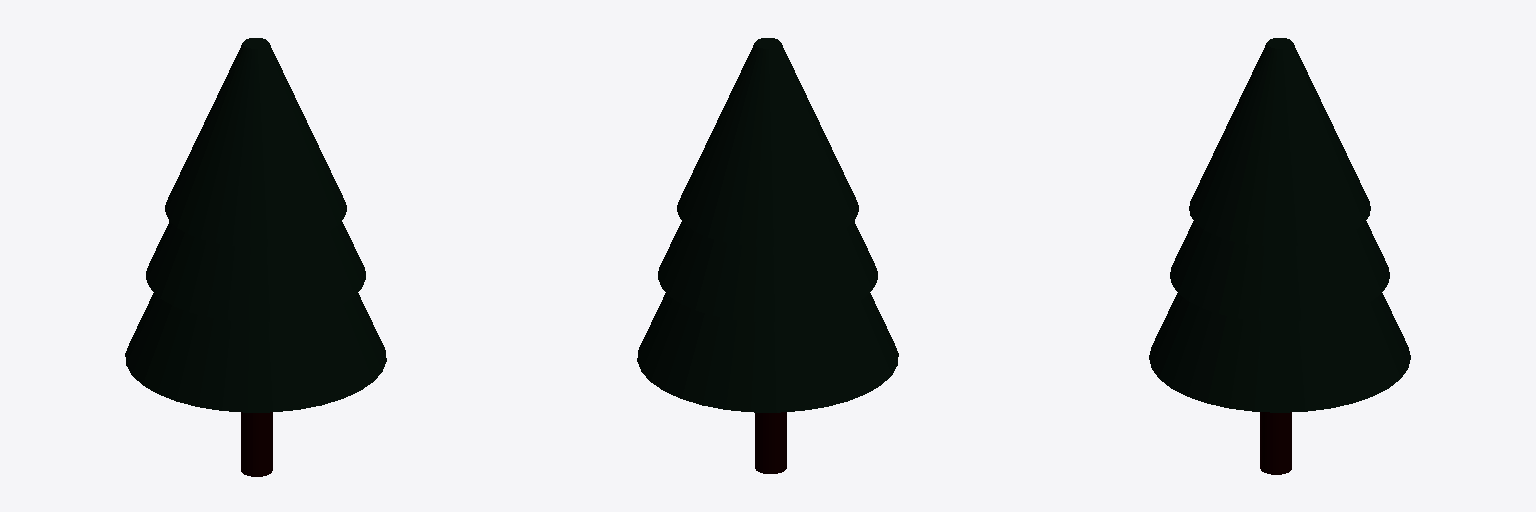
File: TreeBig.obj
3 views of the same model, side by side, from view 1: azimuth 30°, elevation 25°; view 2: azimuth 150°, elevation 25°; view 3: azimuth 270°, elevation 25° (orthographic).
Parts seen in each view (by area): view 1: Cylinder; view 2: Cylinder; view 3: Cylinder.
Boxes of the visible parts, <box> form: Cylinder: <box>125,38,386,476</box>; Cylinder: <box>637,38,898,473</box>; Cylinder: <box>1149,38,1410,474</box>.
Size of the model in its own units: 9.62 by 17.23 by 9.62.